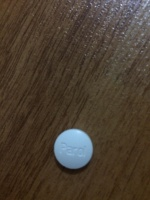Parol: (52, 127, 94, 172)
